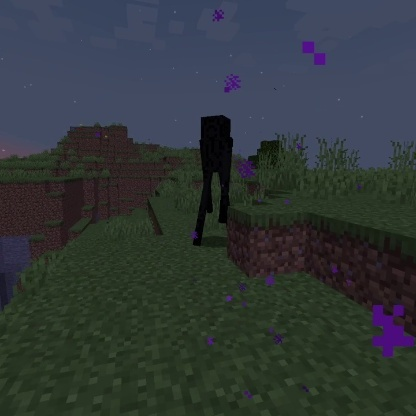enderman: (190, 113, 236, 248)
